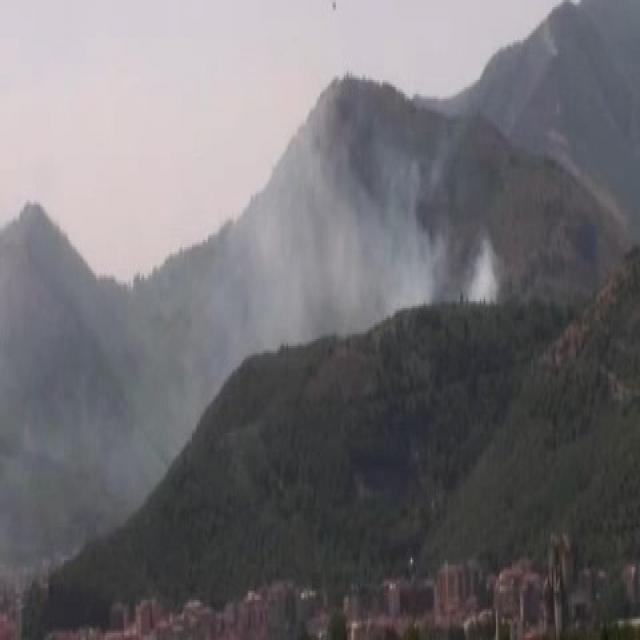smoke: (228, 147, 500, 326), (34, 310, 171, 458)
